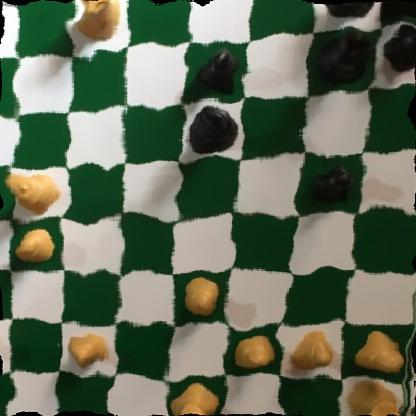black-bishop: (309, 25, 371, 89)
black-king: (183, 100, 241, 162)
black-knight: (322, 0, 386, 26)
black-pawn: (190, 45, 241, 97), (308, 159, 357, 208), (381, 19, 416, 71)
black-rook: (381, 0, 416, 22)
white-king: (166, 379, 219, 416)
white-pawn: (349, 329, 409, 379), (283, 336, 340, 377), (66, 327, 117, 369), (15, 224, 60, 268), (178, 278, 222, 321), (232, 333, 278, 372), (0, 318, 5, 362)
white-queen: (0, 163, 57, 215)
white-rook: (338, 378, 407, 416), (70, 0, 124, 45)
